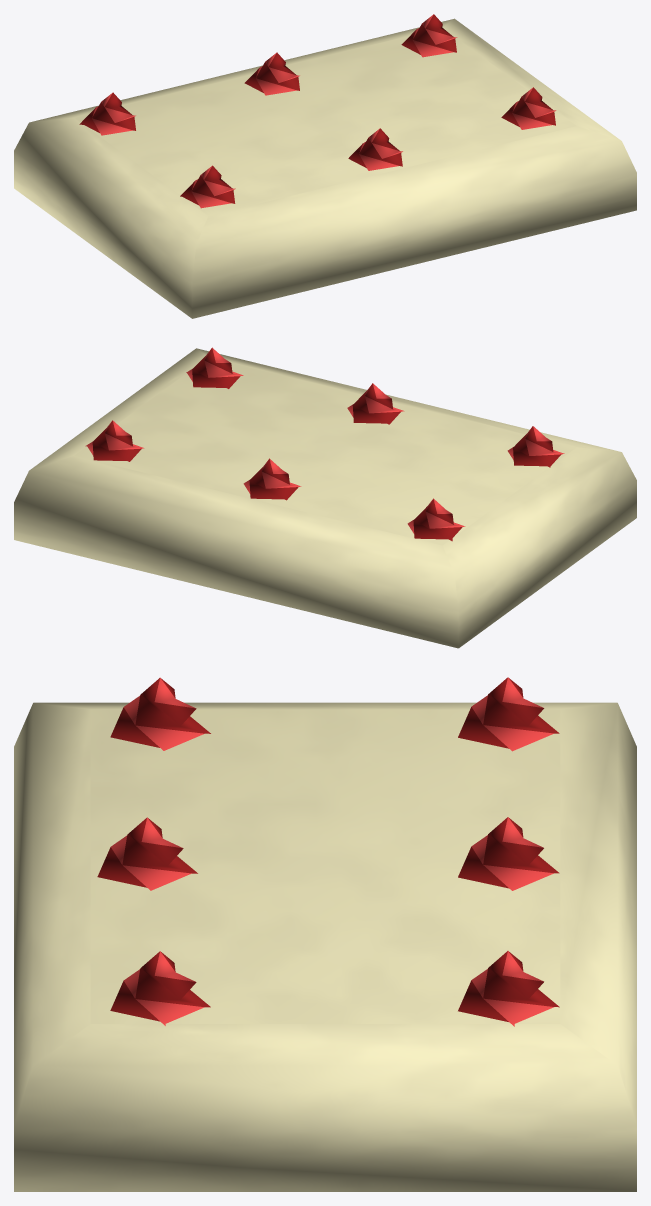
Rendered from Sheet_Cake_A_2.FBX.
The picture shows the model from 3 angles, top to bottom: view 1: azimuth 30°, elevation 25°; view 2: azimuth 150°, elevation 25°; view 3: azimuth 270°, elevation 25°; orthographic projection. The views are drawn at different scales.
Visible parts, largest first — view 1: Sheet Cake; view 2: Sheet Cake; view 3: Sheet Cake.
Boxes of the visible parts, x1,y1,x2,y2 form: Sheet Cake: (14,14,636,318); Sheet Cake: (14,347,636,648); Sheet Cake: (14,677,636,1191).
Bounding box in the file's own units: 180 × 41.76 × 125.
